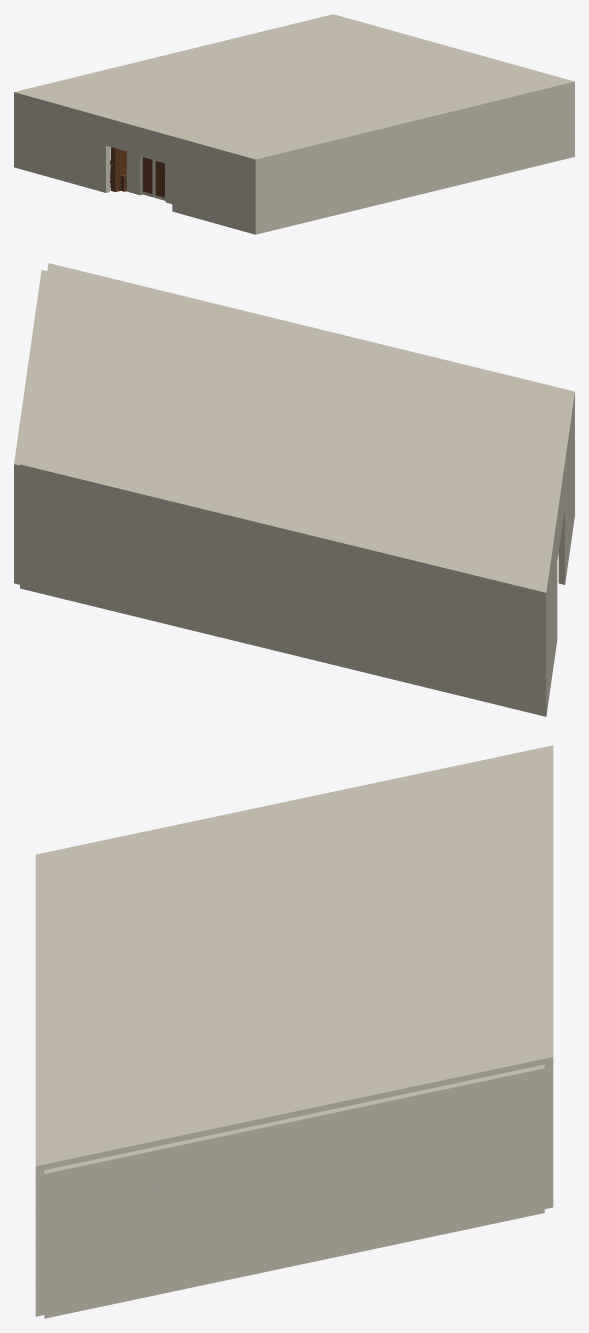
3 renders of one model, top to bottom at view 1: azimuth 30°, elevation 25°; view 2: azimuth 150°, elevation 25°; view 3: azimuth 270°, elevation 25°, orthographic. The views are drawn at different scales.
Parts seen in each view (by area): view 1: PremiumPressureClosure, ForePartyWall, InnerAftPartyReturn, InnerForePartyReturn, ArrivalHeader, PrivateEntry_01_ENTRY_PocketSkin_1_1, ArrivalAftPocket, PrivateEntry_01_ENTRY_TimberInset_LEFT_1, PrivateEntry_01_ENTRY_TimberInset_RIGHT_1, PrivateEntry_01_ENTRY_PocketSkin_-1_1; view 2: PremiumPressureClosure, AftPartyWall, InnerAftPartyReturn, HeldFrontageOpaqueEnclosure, InnerForePartyReturn; view 3: PremiumPressureClosure, HeldFrontageOpaqueEnclosure, ForePartyWall, AftPartyWall.
Part boxes in pixels (x1,y1,x2,y2): PremiumPressureClosure: (14,14,574,162); ForePartyWall: (251,84,574,234); InnerAftPartyReturn: (14,95,109,192); InnerForePartyReturn: (172,139,259,234); ArrivalHeader: (106,120,172,163); PrivateEntry_01_ENTRY_PocketSkin_1_1: (126,151,141,194); ArrivalAftPocket: (110,147,126,191); PrivateEntry_01_ENTRY_TimberInset_LEFT_1: (155,161,164,197); PrivateEntry_01_ENTRY_TimberInset_RIGHT_1: (143,157,152,193); PrivateEntry_01_ENTRY_PocketSkin_-1_1: (165,162,172,203); PremiumPressureClosure: (20,263,574,597); AftPartyWall: (20,469,546,715); InnerAftPartyReturn: (540,522,557,716); HeldFrontageOpaqueEnclosure: (14,270,47,584); InnerForePartyReturn: (558,400,574,584); PremiumPressureClosure: (35,745,553,1171); HeldFrontageOpaqueEnclosure: (44,1064,544,1318); ForePartyWall: (35,1170,44,1316); AftPartyWall: (544,1063,553,1208).
Size of the model in its own units: 26.82 by 4.45 by 13.88.
158 materials, 152 textured.
